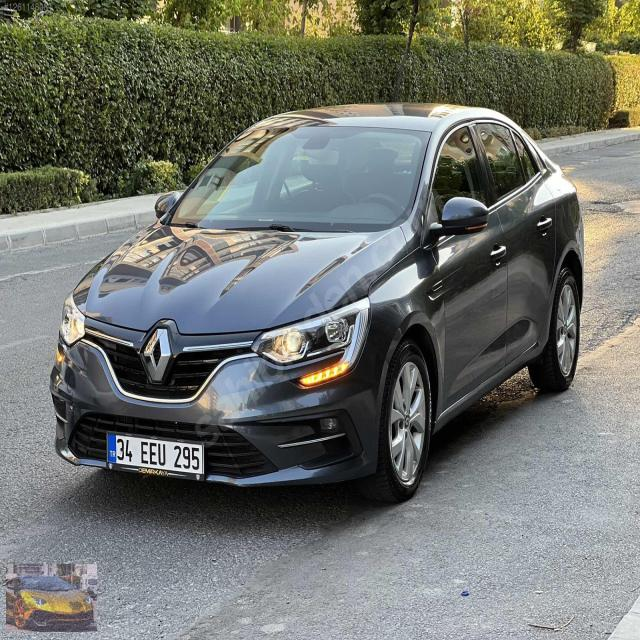renault: (142, 320, 172, 385)
